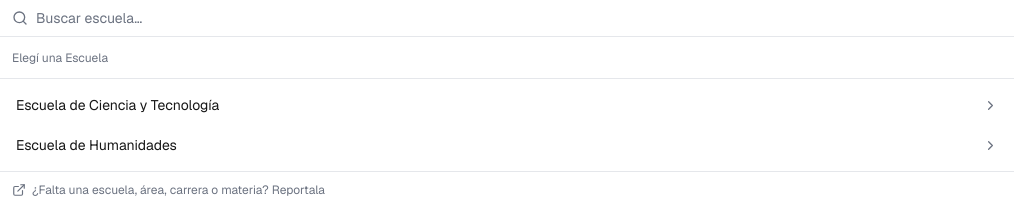
Scenario: AreasCascader › filters the current level by the search query, ignoring accents
This screenshot has width=1024, height=218.
Step 1. Click the button "Escuela de Ciencia y Tecnología" → point(118, 105), box [6,85,1008,125]
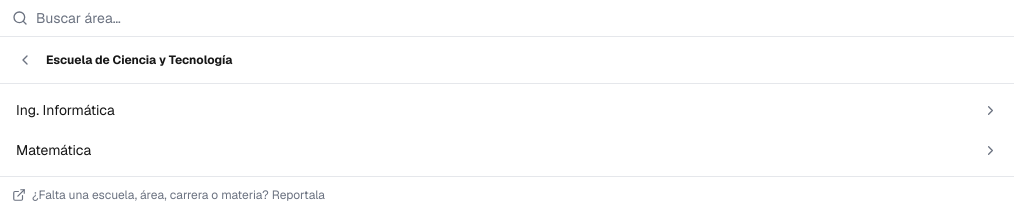
Expected: the button "Ing. Informática" is shown, [6,90,1008,130]
Expected: the button "Matemática" is shown, [6,130,1008,170]
Step 2. Type "matematica" into the field with placeholder "Buscar área…" → point(519, 18), box [36,8,1002,28]
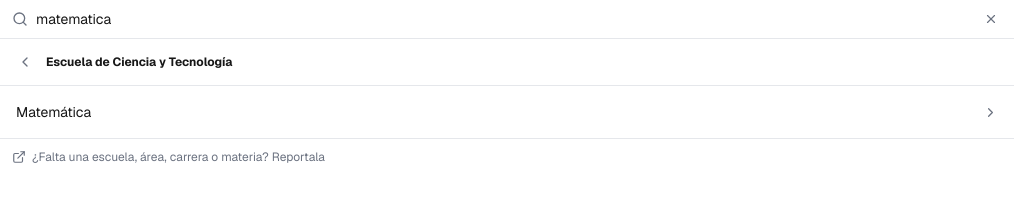
Expected: the button "Matemática" is shown, [6,92,1008,132]
Expected: the button "Ing. Informática" is gone
